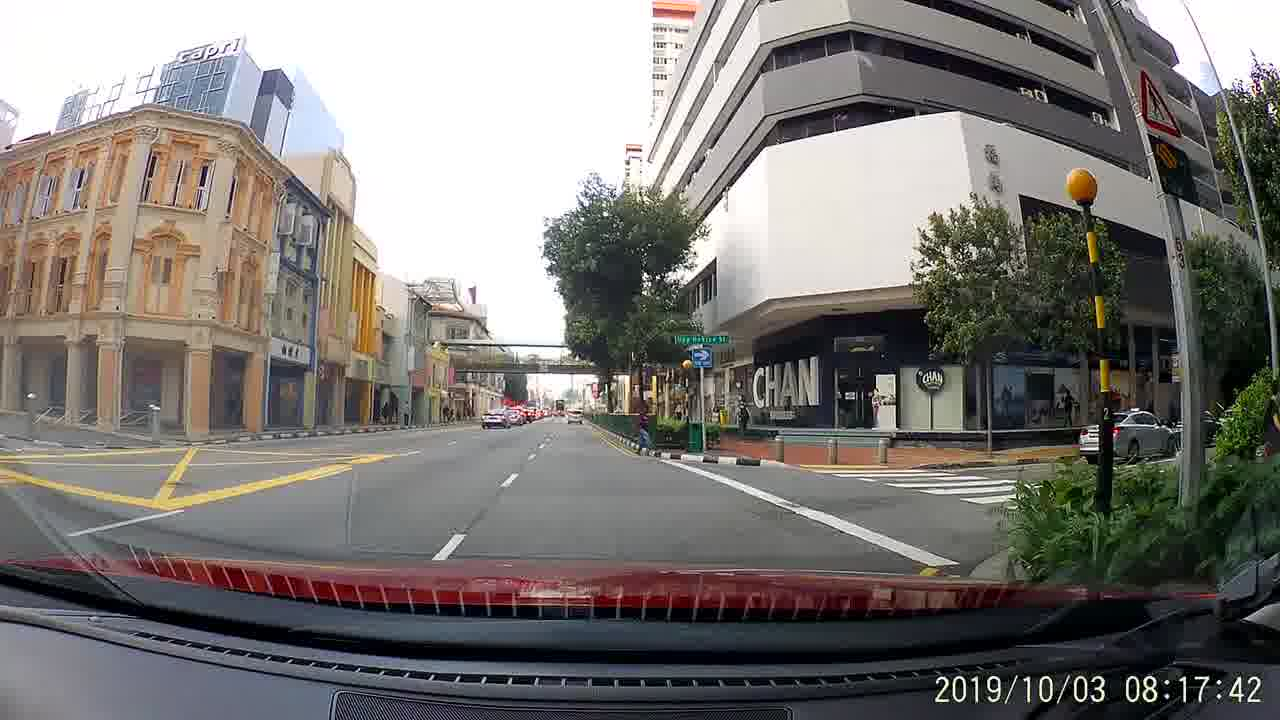car: (1080, 408, 1179, 464), (481, 405, 513, 430), (566, 405, 582, 425)
